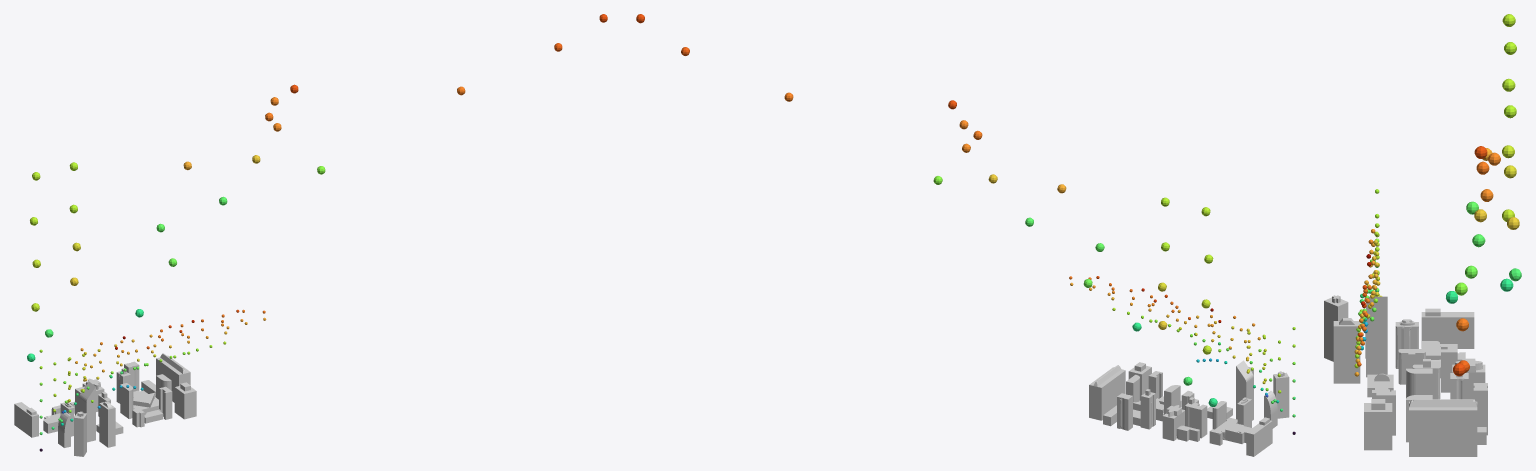
The model's file is wab_partialAnim17.glb.
The picture shows the model from 3 angles, left to right: view 1: azimuth 30°, elevation 25°; view 2: azimuth 150°, elevation 25°; view 3: azimuth 270°, elevation 25°; orthographic projection. The views are drawn at different scales.
Parts seen in each view (by area): view 1: mesh0, Renderer Node.001, Renderer Node; view 2: mesh0, Renderer Node.001, Renderer Node; view 3: mesh0, Renderer Node.001, Renderer Node, Renderer Node.012, Renderer Node.004, Renderer Node.009, Renderer Node.010.
Part boxes in pixels (x1,y1,x2,y2): mesh0: (14, 353, 196, 456); Renderer Node.001: (45, 14, 607, 337); Renderer Node: (27, 84, 298, 361); mesh0: (1089, 360, 1289, 456); Renderer Node.001: (636, 14, 1192, 385); Renderer Node: (948, 100, 1217, 406); mesh0: (1324, 295, 1487, 456); Renderer Node.001: (1453, 42, 1521, 376); Renderer Node: (1446, 14, 1515, 303); Renderer Node.012: (1355, 189, 1379, 362); Renderer Node.004: (1354, 242, 1382, 368); Renderer Node.009: (1355, 234, 1379, 358); Renderer Node.010: (1354, 224, 1379, 376).
Size of what is drawn, in the model's own units: 6.34 by 2.78 by 1.22.
15 materials, 14 textured.
